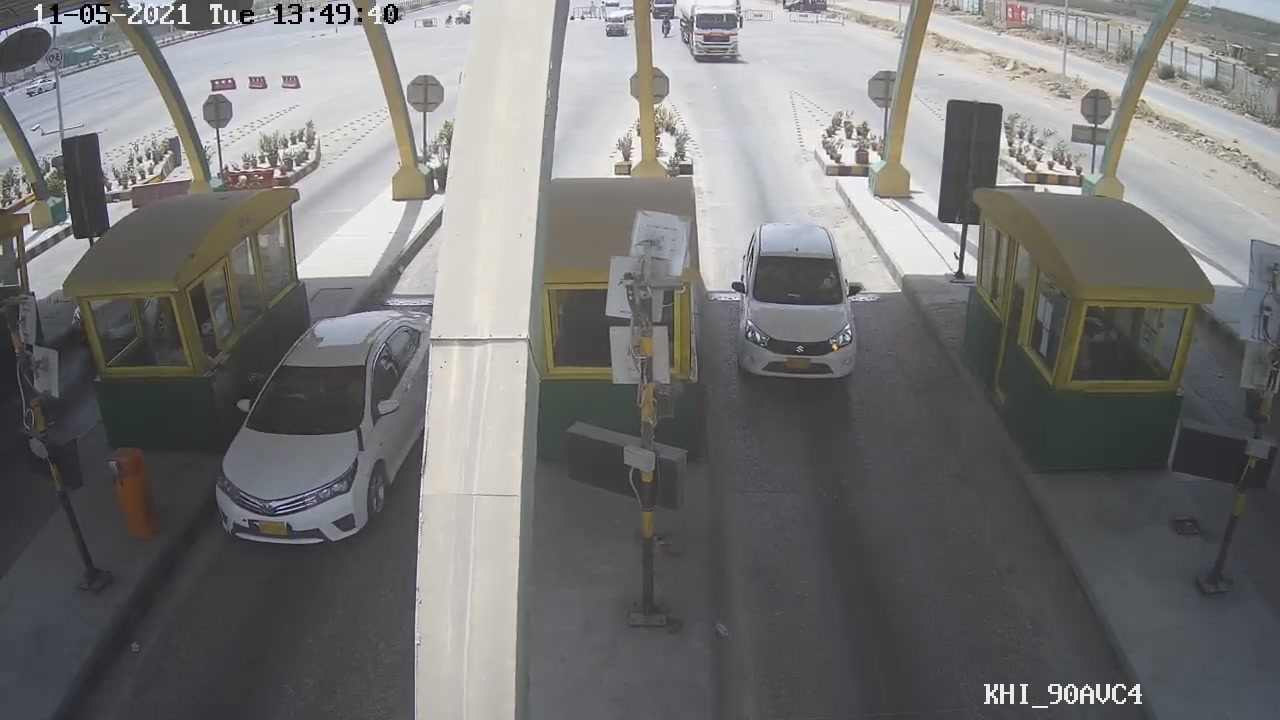F1: (720, 215, 876, 395)
